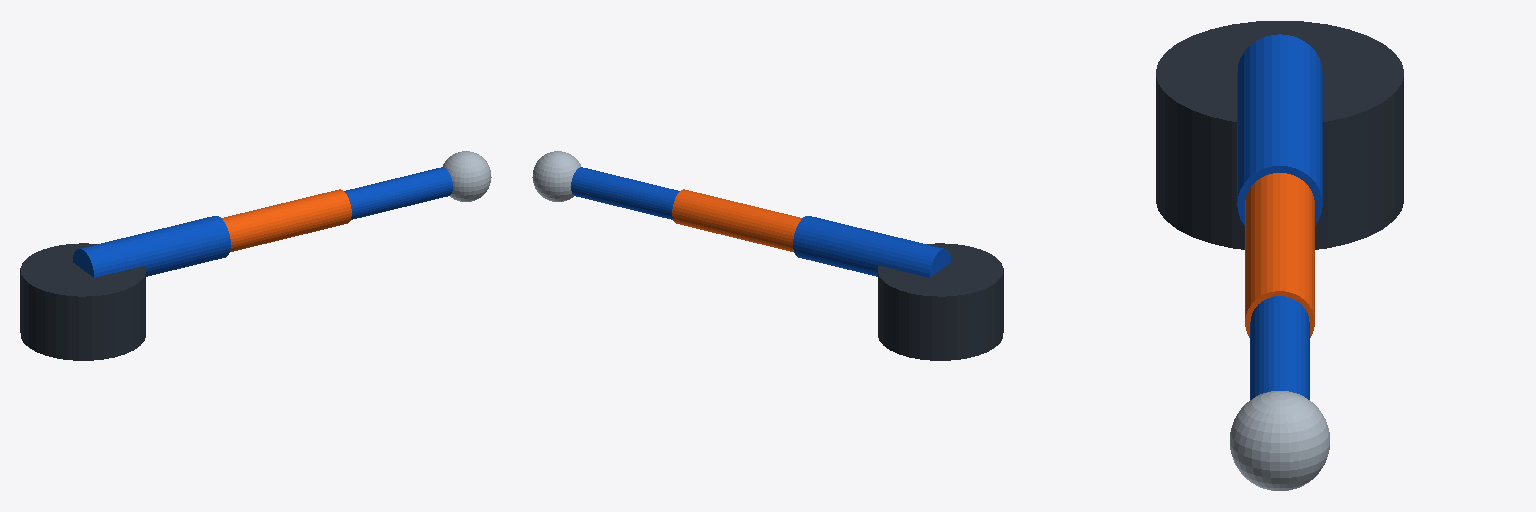
The robot description file, URDF, robot "storm_arm":
<?xml version="1.0"?>
<robot name="storm_arm">
  <material name="dark_gray">
    <color rgba="0.22 0.25 0.29 1"/>
  </material>
  <material name="blue">
    <color rgba="0.10 0.38 0.78 1"/>
  </material>
  <material name="orange">
    <color rgba="0.95 0.42 0.12 1"/>
  </material>
  <material name="light_gray">
    <color rgba="0.70 0.74 0.78 1"/>
  </material>

  <link name="world"/>
  <link name="base_link">
    <visual>
      <origin xyz="0 0 0.09"/>
      <geometry><cylinder radius="0.16" length="0.18"/></geometry>
      <material name="dark_gray"/>
    </visual>
    <collision>
      <origin xyz="0 0 0.09"/>
      <geometry><cylinder radius="0.16" length="0.18"/></geometry>
    </collision>
  </link>
  <link name="shoulder_link">
    <visual>
      <origin xyz="0.20 0 0" rpy="0 1.5708 0"/>
      <geometry><cylinder radius="0.055" length="0.40"/></geometry>
      <material name="blue"/>
    </visual>
    <collision>
      <origin xyz="0.20 0 0" rpy="0 1.5708 0"/>
      <geometry><cylinder radius="0.055" length="0.40"/></geometry>
    </collision>
  </link>
  <link name="upper_arm_link">
    <visual>
      <origin xyz="0.18 0 0" rpy="0 1.5708 0"/>
      <geometry><cylinder radius="0.045" length="0.36"/></geometry>
      <material name="orange"/>
    </visual>
    <collision>
      <origin xyz="0.18 0 0" rpy="0 1.5708 0"/>
      <geometry><cylinder radius="0.045" length="0.36"/></geometry>
    </collision>
  </link>
  <link name="forearm_link">
    <visual>
      <origin xyz="0.15 0 0" rpy="0 1.5708 0"/>
      <geometry><cylinder radius="0.038" length="0.30"/></geometry>
      <material name="blue"/>
    </visual>
    <collision>
      <origin xyz="0.15 0 0" rpy="0 1.5708 0"/>
      <geometry><cylinder radius="0.038" length="0.30"/></geometry>
    </collision>
  </link>
  <link name="tool0">
    <visual>
      <origin xyz="0.06 0 0"/>
      <geometry><sphere radius="0.065"/></geometry>
      <material name="light_gray"/>
    </visual>
    <collision>
      <origin xyz="0.06 0 0"/>
      <geometry><sphere radius="0.065"/></geometry>
    </collision>
  </link>

  <joint name="world_joint" type="fixed">
    <parent link="world"/>
    <child link="base_link"/>
  </joint>
  <joint name="base_yaw_joint" type="revolute">
    <parent link="base_link"/>
    <child link="shoulder_link"/>
    <origin xyz="0 0 0.18"/>
    <axis xyz="0 0 1"/>
    <limit lower="-3.14159" upper="3.14159" effort="30" velocity="1.5"/>
  </joint>
  <joint name="shoulder_pitch_joint" type="revolute">
    <parent link="shoulder_link"/>
    <child link="upper_arm_link"/>
    <origin xyz="0.40 0 0"/>
    <axis xyz="0 1 0"/>
    <limit lower="-1.74533" upper="1.74533" effort="30" velocity="1.5"/>
  </joint>
  <joint name="elbow_pitch_joint" type="revolute">
    <parent link="upper_arm_link"/>
    <child link="forearm_link"/>
    <origin xyz="0.36 0 0"/>
    <axis xyz="0 1 0"/>
    <limit lower="-2.35619" upper="2.35619" effort="20" velocity="1.8"/>
  </joint>
  <joint name="tool_fixed_joint" type="fixed">
    <parent link="forearm_link"/>
    <child link="tool0"/>
    <origin xyz="0.30 0 0"/>
  </joint>

  <ros2_control name="FakeArmSystem" type="system">
    <hardware>
      <plugin>mock_components/GenericSystem</plugin>
    </hardware>
    <joint name="base_yaw_joint">
      <command_interface name="position"/>
      <state_interface name="position"><param name="initial_value">0.0</param></state_interface>
      <state_interface name="velocity"/>
    </joint>
    <joint name="shoulder_pitch_joint">
      <command_interface name="position"/>
      <state_interface name="position"><param name="initial_value">0.0</param></state_interface>
      <state_interface name="velocity"/>
    </joint>
    <joint name="elbow_pitch_joint">
      <command_interface name="position"/>
      <state_interface name="position"><param name="initial_value">0.0</param></state_interface>
      <state_interface name="velocity"/>
    </joint>
  </ros2_control>
</robot>

--- Facts derived from the render (not from the file) ---
Views: 3 orthographic renders of the robot side by side, from view 1: azimuth 30°, elevation 25°; view 2: azimuth 150°, elevation 25°; view 3: azimuth 270°, elevation 25°.
Model storm_arm with 6 links and 5 joints (3 revolute, 2 fixed), rooted at world, posed every joint at zero.
Visible links, largest first — view 1: base_link, shoulder_link, upper_arm_link, forearm_link, tool0; view 2: base_link, shoulder_link, upper_arm_link, forearm_link, tool0; view 3: base_link, shoulder_link, upper_arm_link, tool0, forearm_link.
Link boxes in pixels (x1,y1,x2,y2): base_link: (20, 243, 145, 360); shoulder_link: (73, 216, 230, 277); upper_arm_link: (222, 189, 351, 251); forearm_link: (344, 167, 452, 219); tool0: (443, 151, 491, 201); base_link: (878, 243, 1003, 360); shoulder_link: (793, 216, 950, 277); upper_arm_link: (672, 189, 801, 251); forearm_link: (571, 167, 679, 219); tool0: (532, 151, 580, 201); base_link: (1156, 21, 1403, 249); shoulder_link: (1237, 34, 1322, 225); upper_arm_link: (1245, 173, 1314, 337); tool0: (1230, 391, 1329, 490); forearm_link: (1250, 296, 1309, 399).
Size in the robot's own frame: 1.34 by 0.32 by 0.245 metres.
Geometry: primitives only (box / cylinder / sphere), no mesh files.
